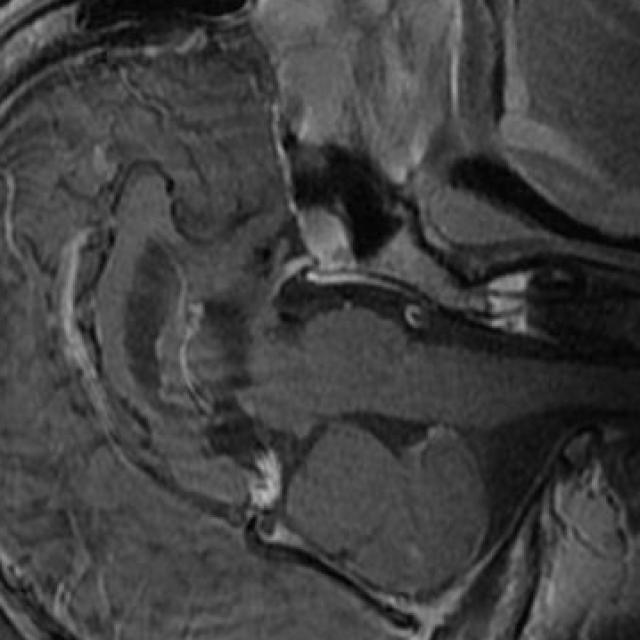pituitary: (299, 207, 349, 266)
